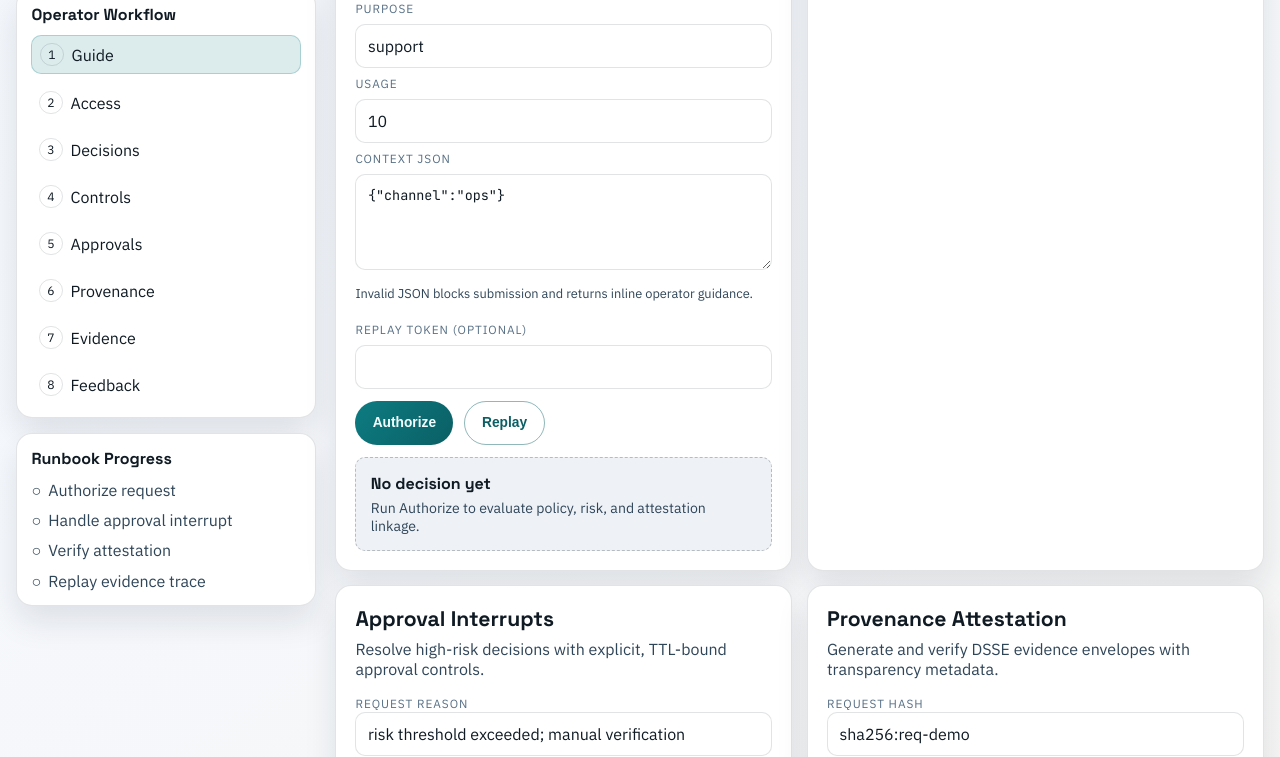
Test: Mission Control decision flow › submits authorization request and renders decision
The width and height of the screenshot is (1280, 757).
(page scrolled)
What coordinates should you click on to do the following:
click the button "Authorize"
I would click on:
 (404, 422)
Its box is x1=355 y1=400 x2=453 y2=444.
(page scrolled)
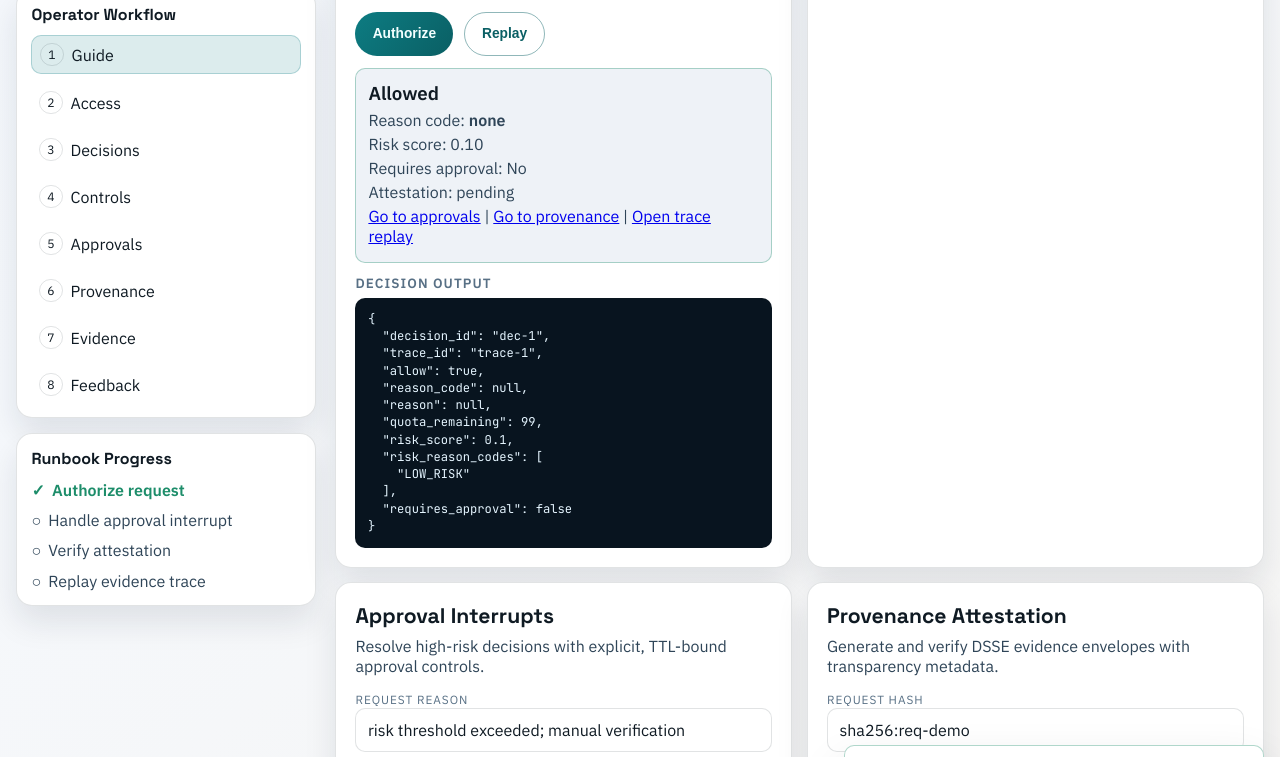
Expected: the text "\"decision_id\": \"dec-1\"" is shown, x1=368 y1=311 x2=572 y2=534
